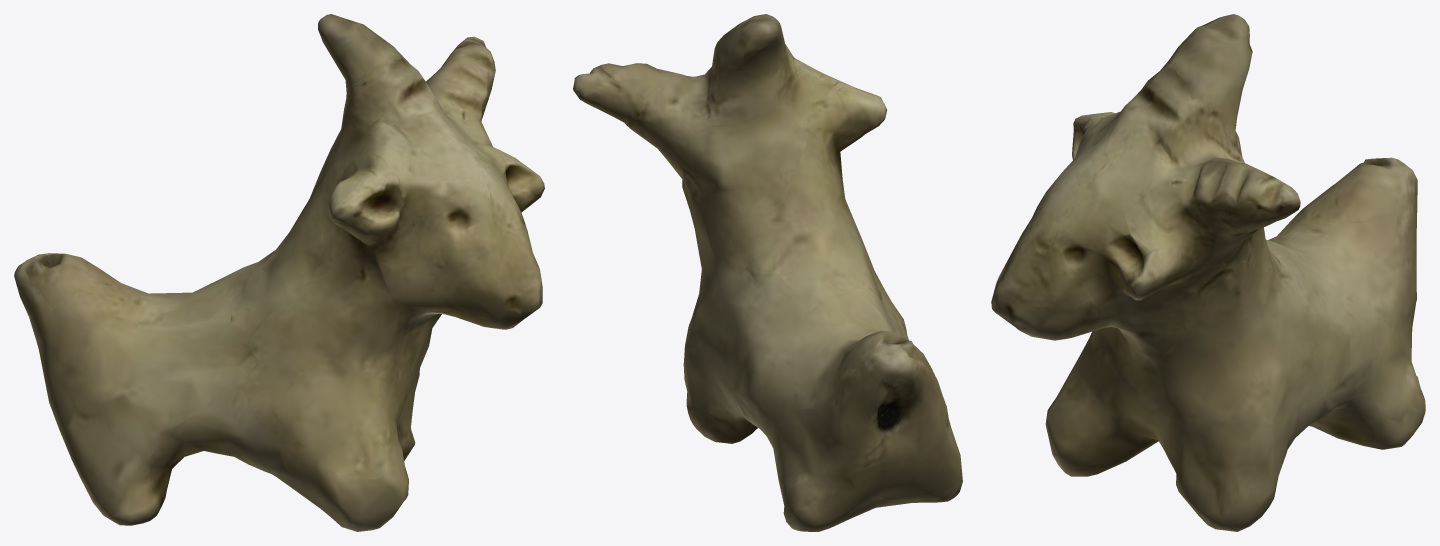
Rendered from hall.glb.
3 renders of one model, left to right at view 1: azimuth 30°, elevation 25°; view 2: azimuth 150°, elevation 25°; view 3: azimuth 270°, elevation 25°, orthographic. The views are drawn at different scales.
Bounding box in the file's own units: 0.8357 × 0.8921 × 0.7129.
Materials: 1 (1 with a texture image).
